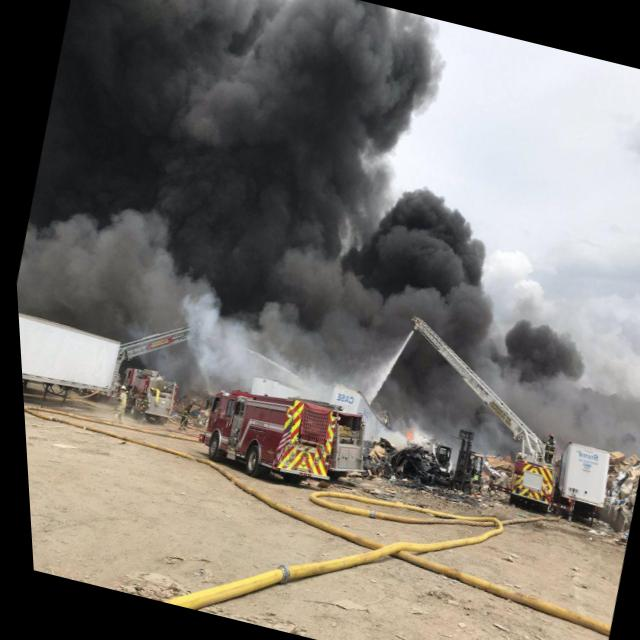fire: (396, 427, 411, 444)
